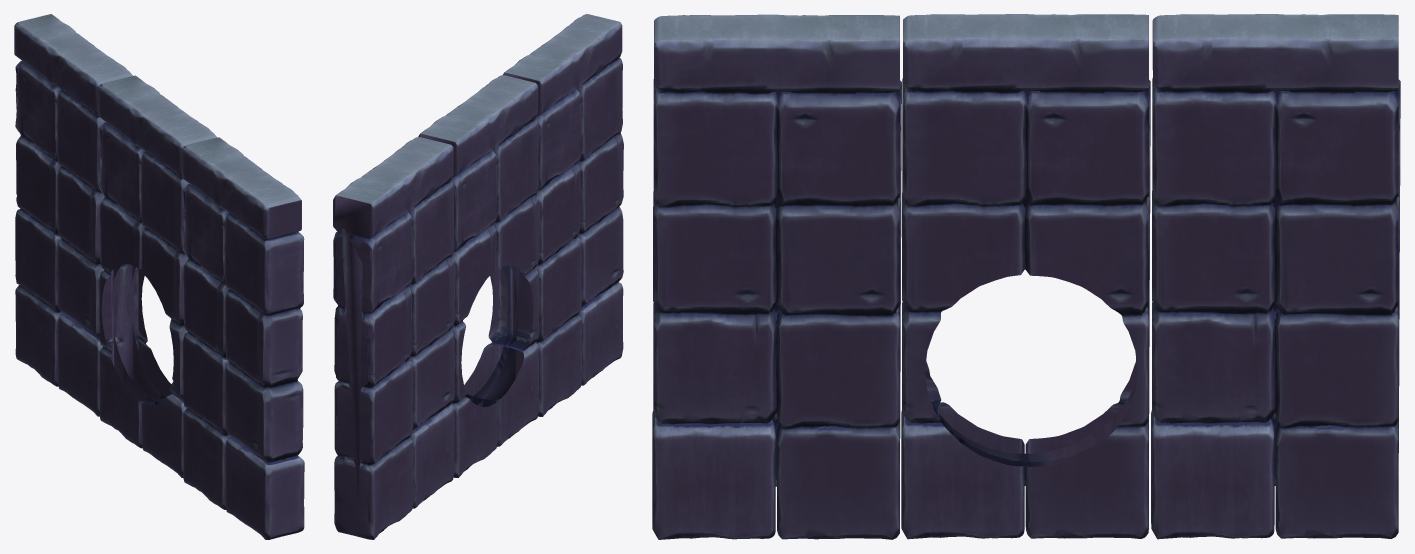
Rendered from windowHole.glb.
3 renders of one model, left to right at view 1: azimuth 30°, elevation 25°; view 2: azimuth 150°, elevation 25°; view 3: azimuth 270°, elevation 25°, orthographic. The views are drawn at different scales.
Visible parts, largest first — view 1: Wall_01_lambert10_0.001; view 2: Wall_01_lambert10_0.001; view 3: Wall_01_lambert10_0.001.
Part boxes in pixels (x1,y1,x2,y2): Wall_01_lambert10_0.001: (14, 14, 304, 539); Wall_01_lambert10_0.001: (333, 14, 623, 539); Wall_01_lambert10_0.001: (652, 14, 1400, 539).
Bounding box in the file's own units: 0.0829 × 0.6385 × 0.8652.
Materials: 3 (3 with a texture image).
